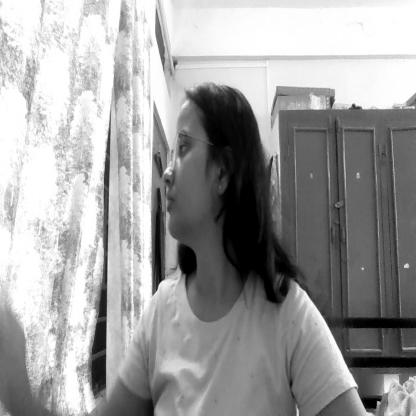Distracted: (161, 94, 254, 240)
